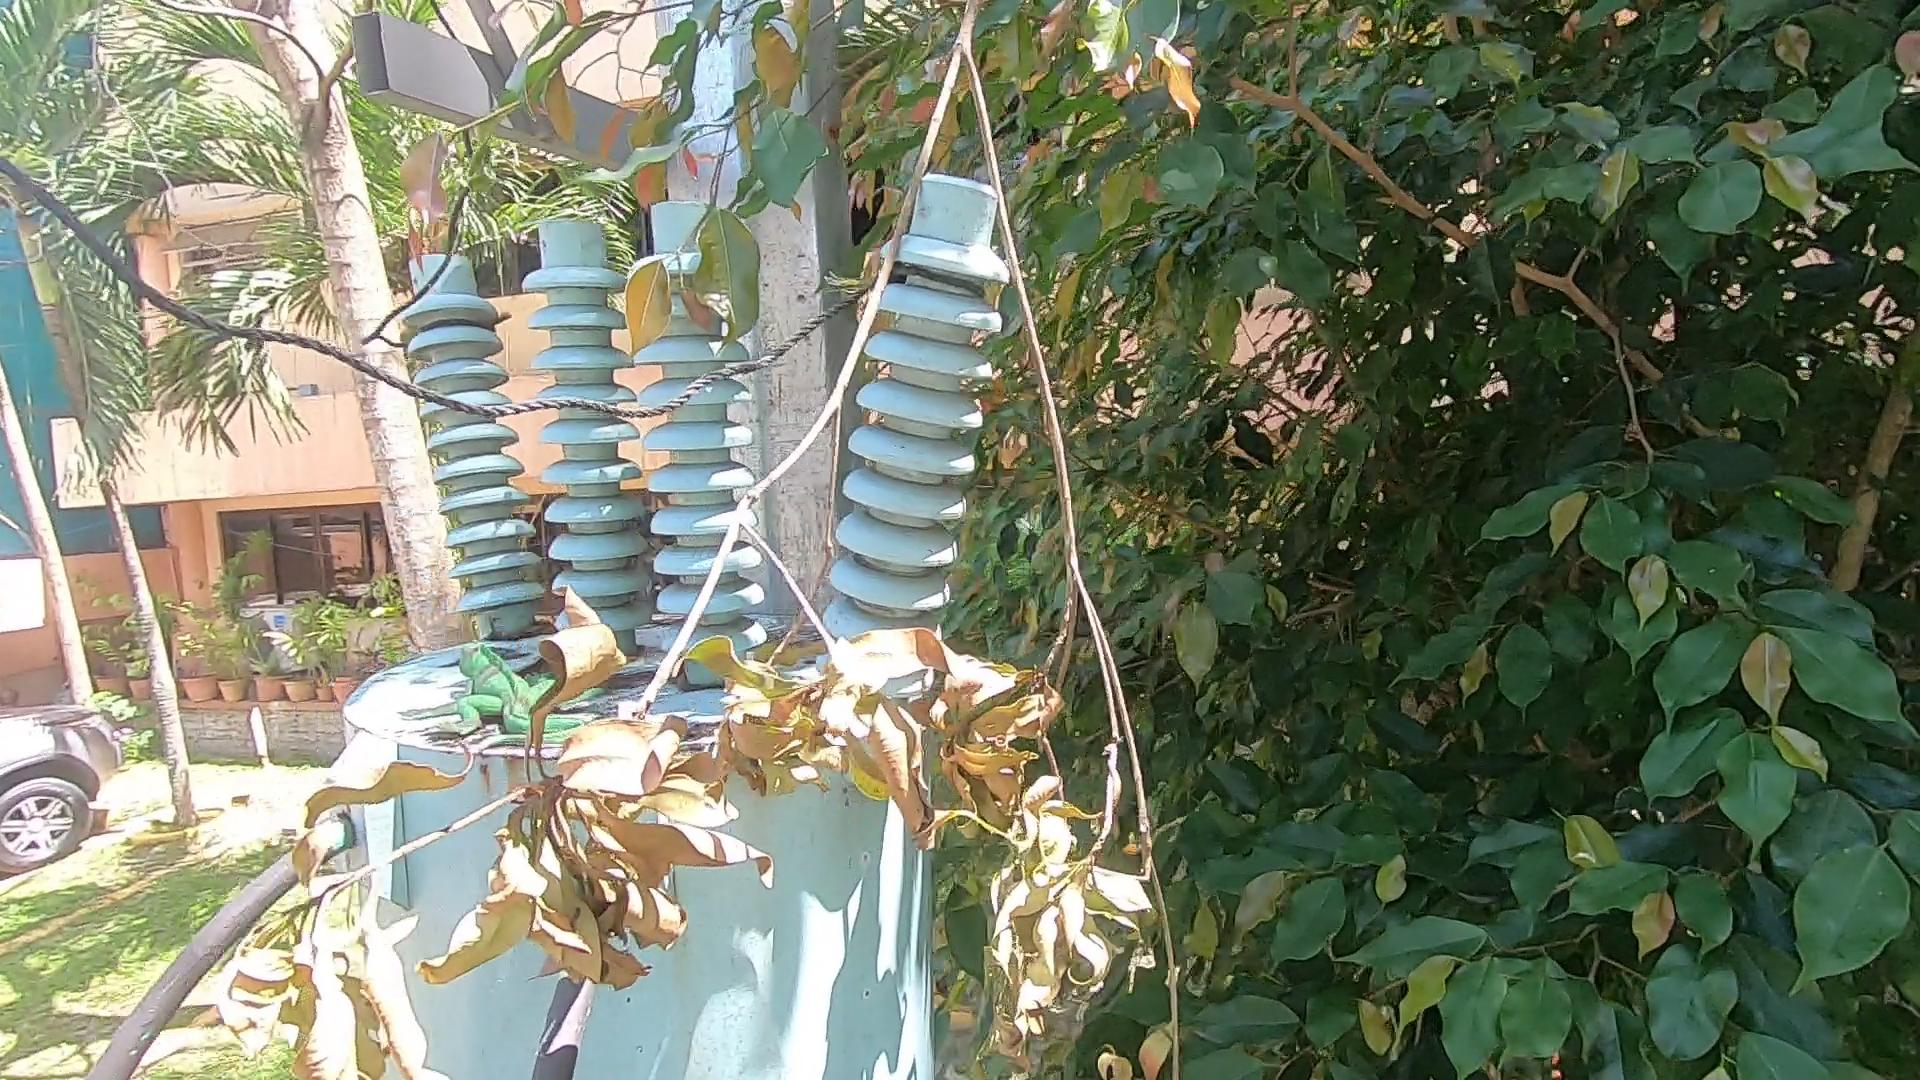branch with leaves: (218, 40, 1295, 1080)
